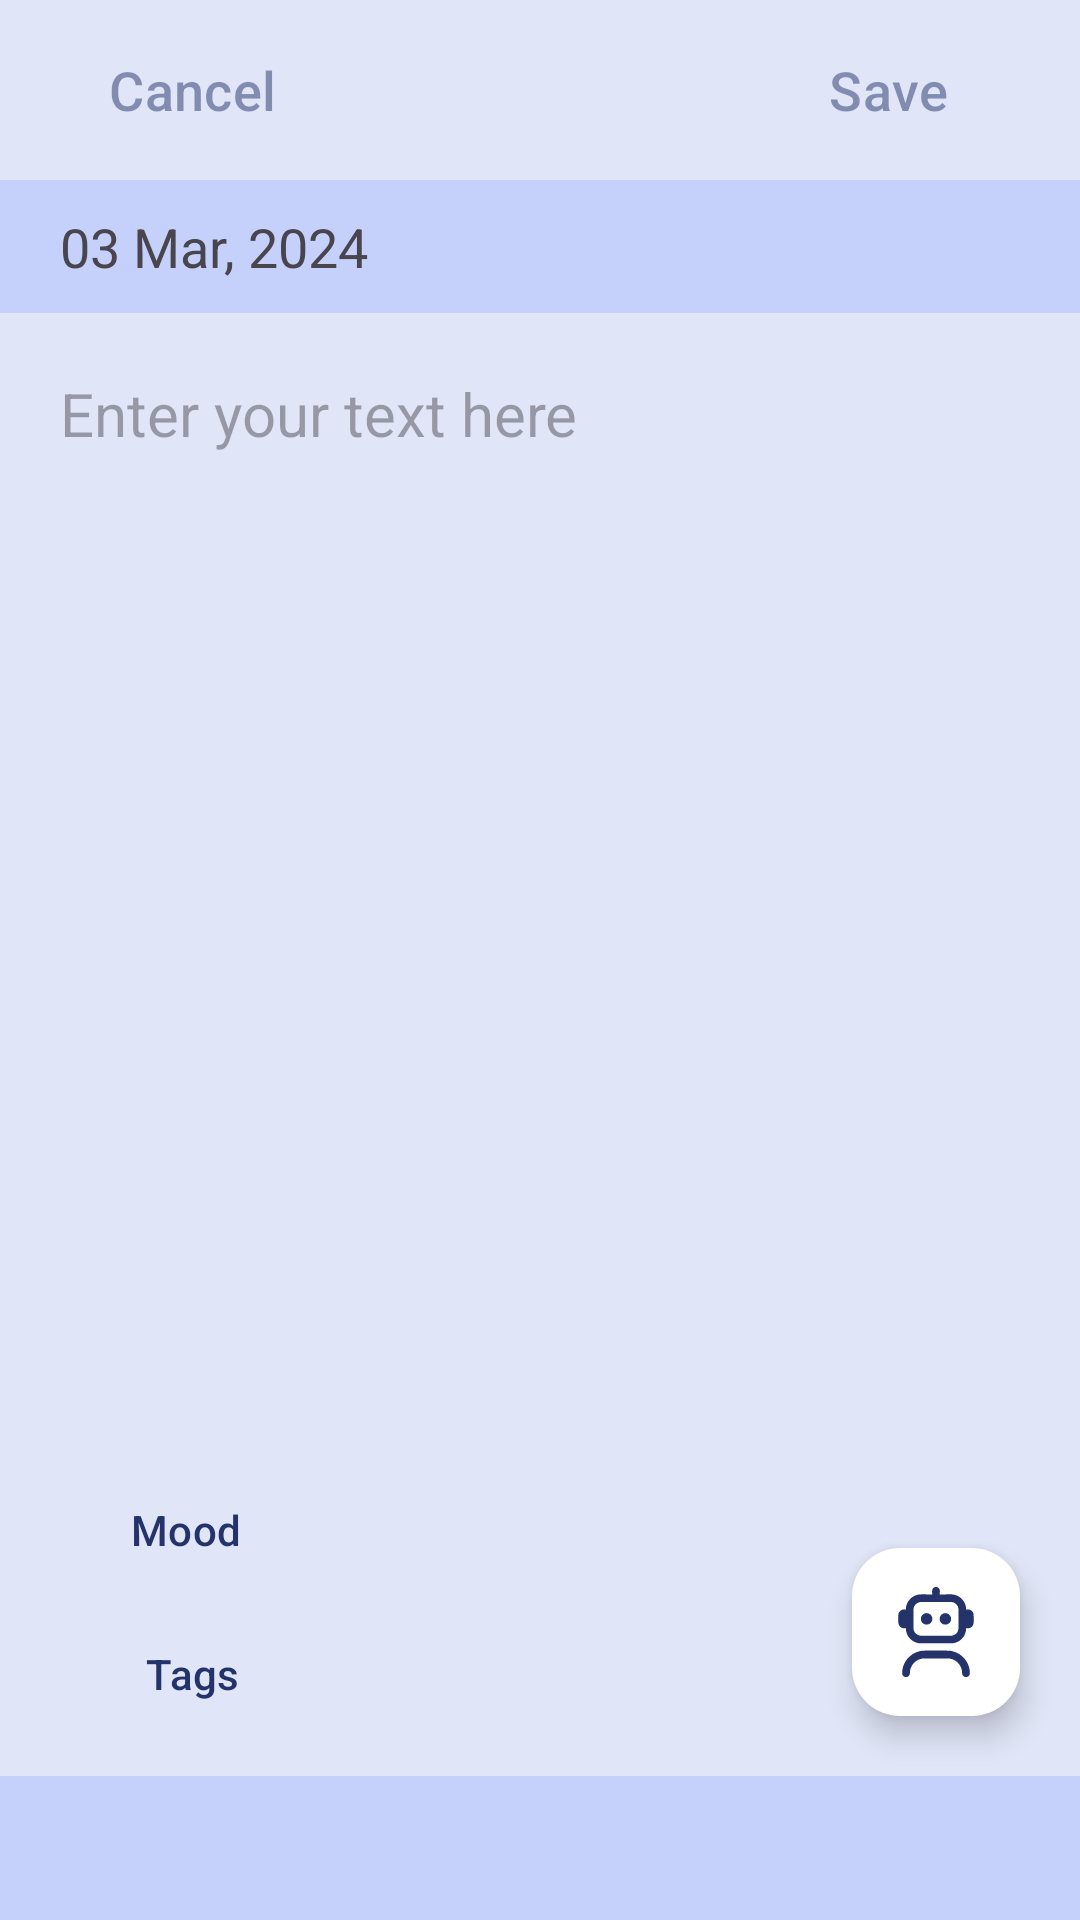

Named icons in this screenshot (1080×1920) and their bounding boxes, (x1, y1, x2, y2):
robot: (852, 1548, 1020, 1716)
